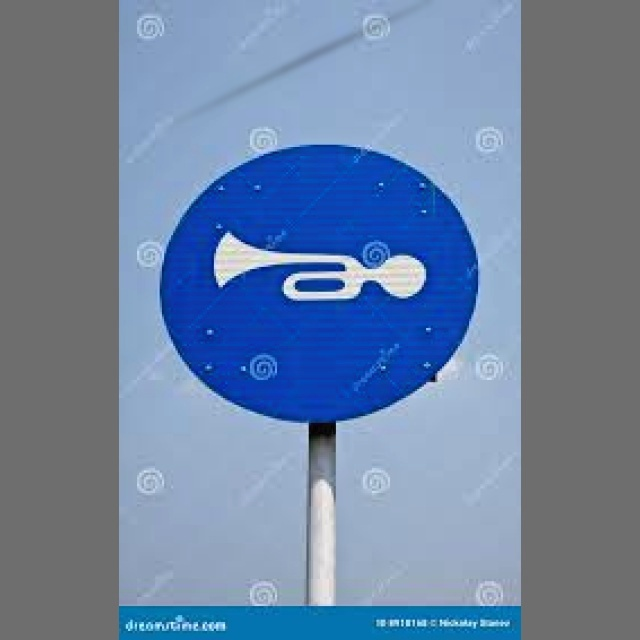Compulsory_Sound_Horn: (161, 141, 479, 416)
